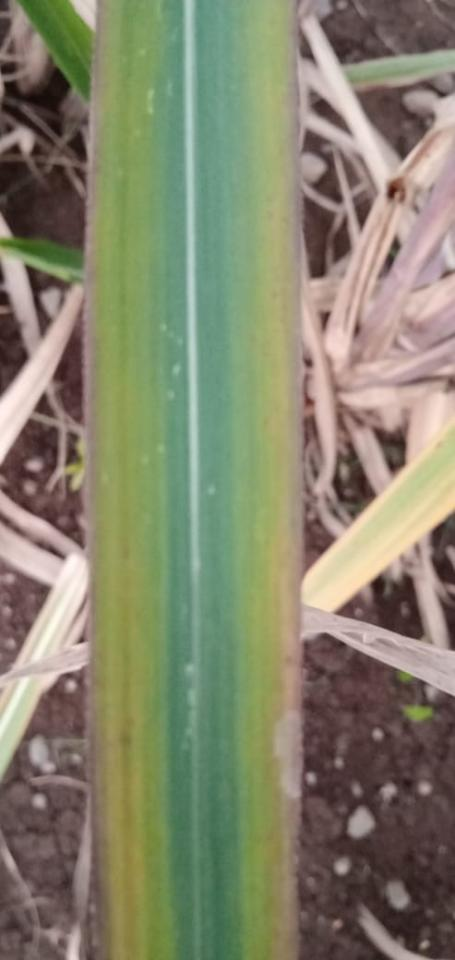Yellow: (89, 0, 171, 959), (241, 0, 297, 959)
